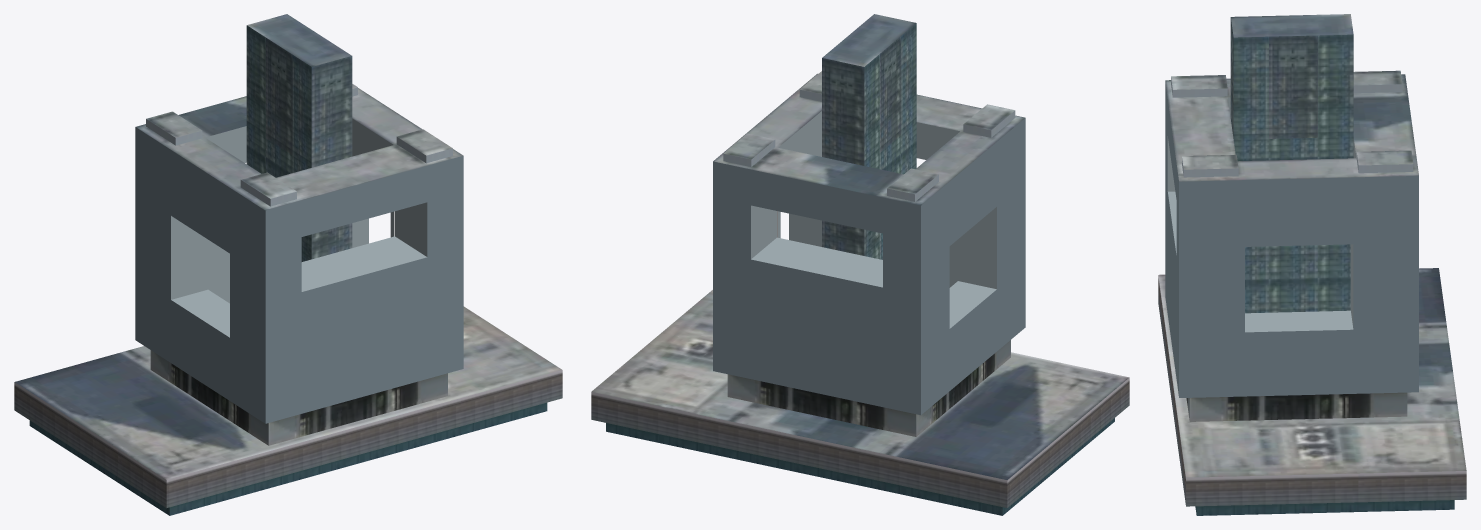
Rendered from university_science_and_technology_buildi_2cfdf5a0.glb.
3 renders of one model, left to right at view 1: azimuth 30°, elevation 25°; view 2: azimuth 150°, elevation 25°; view 3: azimuth 270°, elevation 25°, orthographic. The views are drawn at different scales.
Visible parts, largest first — view 1: university_science_and_technology_buildi_2cfdf5a0; view 2: university_science_and_technology_buildi_2cfdf5a0; view 3: university_science_and_technology_buildi_2cfdf5a0.
Boxes of the visible parts, x1,y1,x2,y2 form: university_science_and_technology_buildi_2cfdf5a0: (14,14,562,515); university_science_and_technology_buildi_2cfdf5a0: (591,14,1129,515); university_science_and_technology_buildi_2cfdf5a0: (1158,14,1466,515).
Size of the model in its own units: 109 by 94.8 by 67.76.
1 material, 1 textured.
